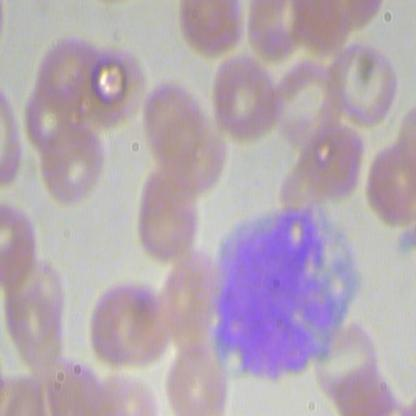RBC: (151, 107, 226, 202), (34, 115, 108, 210), (327, 34, 401, 128), (207, 49, 281, 143), (85, 273, 159, 367), (131, 163, 205, 257), (83, 39, 149, 133), (353, 137, 415, 231), (299, 121, 367, 203), (163, 334, 231, 415)
WBC: (206, 192, 365, 382)
